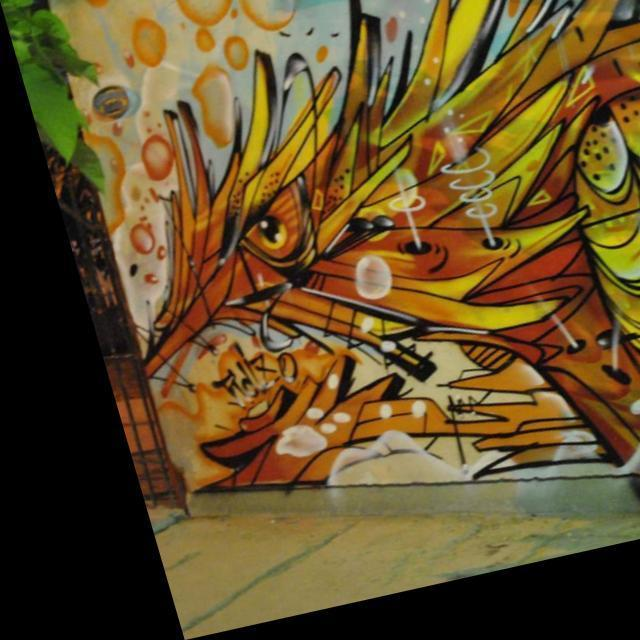-: (57, 0, 640, 580), (182, 344, 286, 417)
